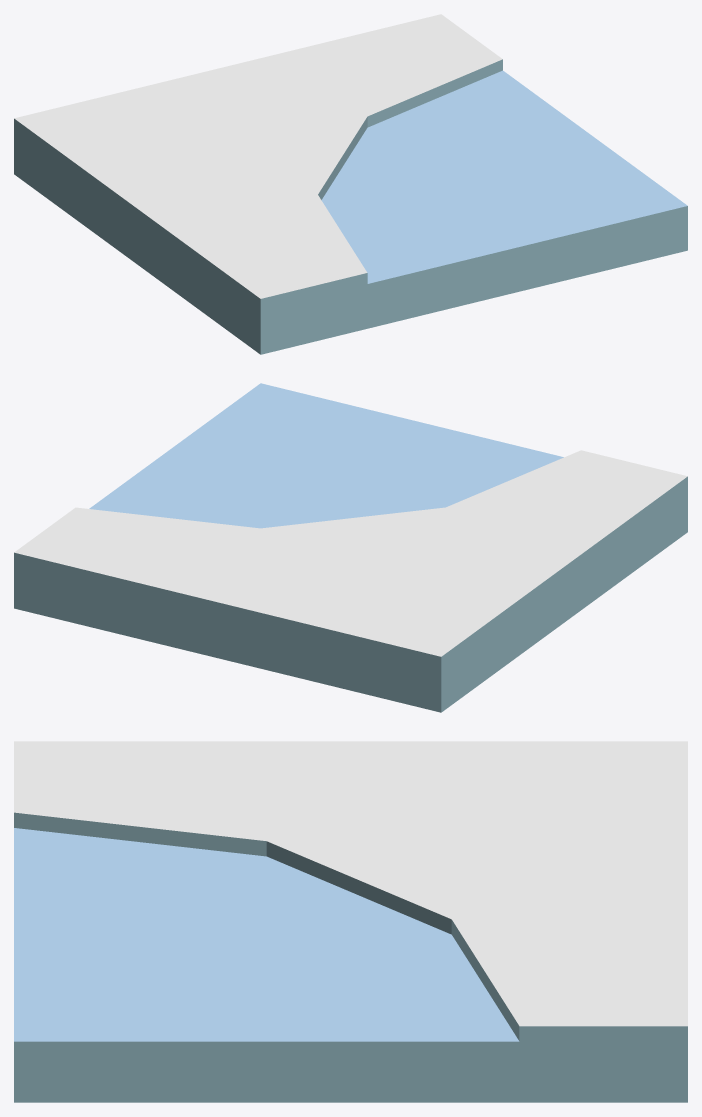
The model's file is Terrain_Tile_Ice_Snow_Water_Bank_Corner_01.fbx.
3 views of the same model, one above another, from view 1: azimuth 30°, elevation 25°; view 2: azimuth 150°, elevation 25°; view 3: azimuth 270°, elevation 25° (orthographic). The views are drawn at different scales.
Parts seen in each view (by area): view 1: Model; view 2: Model; view 3: Model.
Part boxes in pixels (x1,y1,x2,y2): Model: (14, 14, 687, 354); Model: (14, 383, 687, 712); Model: (14, 741, 687, 1102).
Bounding box in the file's own units: 2000 × 250 × 2000.
